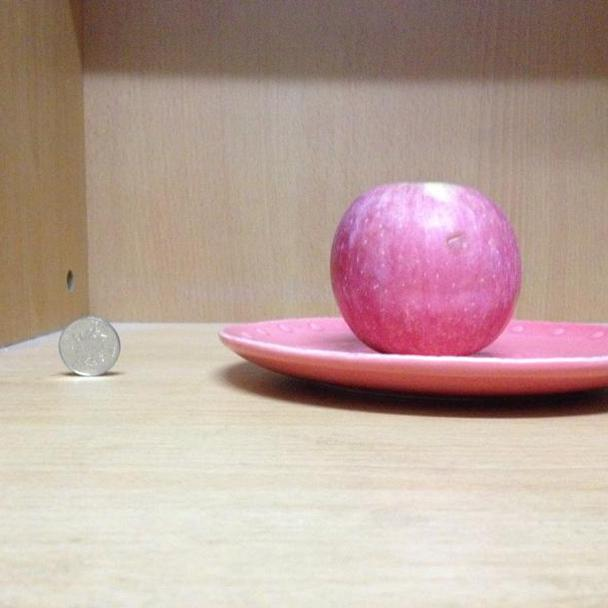apple: (327, 176, 529, 358)
